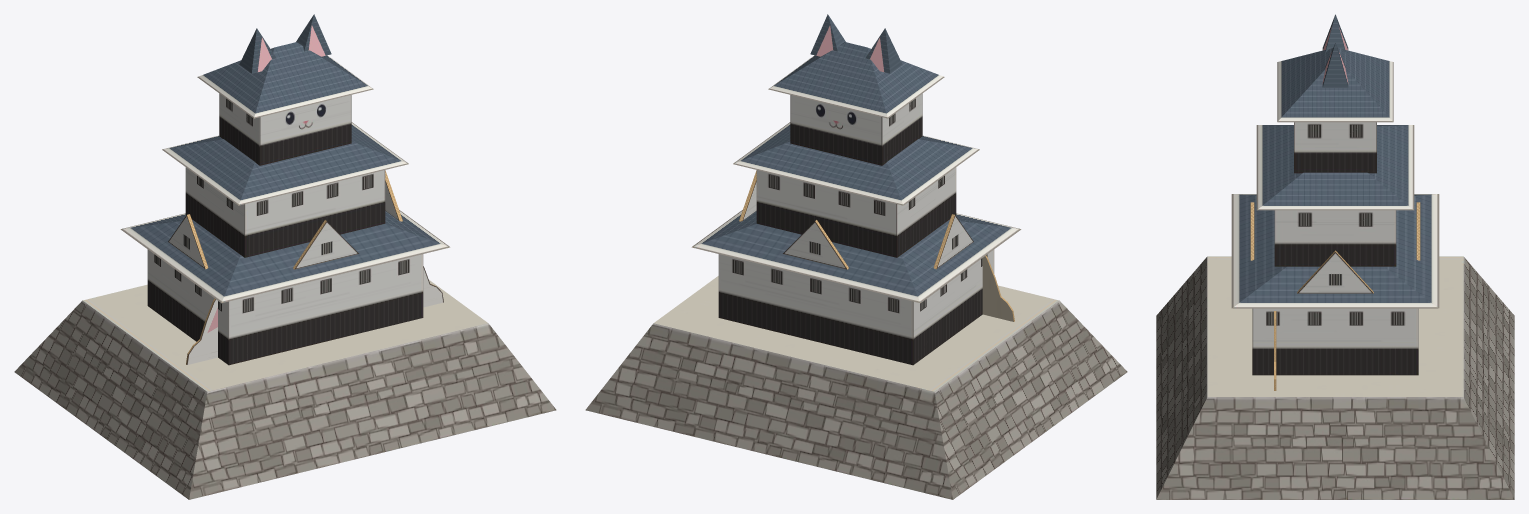
Rendered from nyanisyarud-city-kit.glb.
3 renders of one model, left to right at view 1: azimuth 30°, elevation 25°; view 2: azimuth 150°, elevation 25°; view 3: azimuth 270°, elevation 25°, orthographic. The views are drawn at different scales.
Parts seen in each view (by area): view 1: castle, station; view 2: castle, station; view 3: castle.
Part boxes in pixels (bbox=[...]): castle: bbox=[14, 14, 556, 499]; station: bbox=[186, 266, 443, 364]; castle: bbox=[585, 14, 1127, 499]; station: bbox=[982, 255, 1014, 321]; castle: bbox=[1156, 14, 1514, 499].
Bounding box in the file's own units: 44.2 × 42.52 × 36.4.
1 material, 1 textured.
